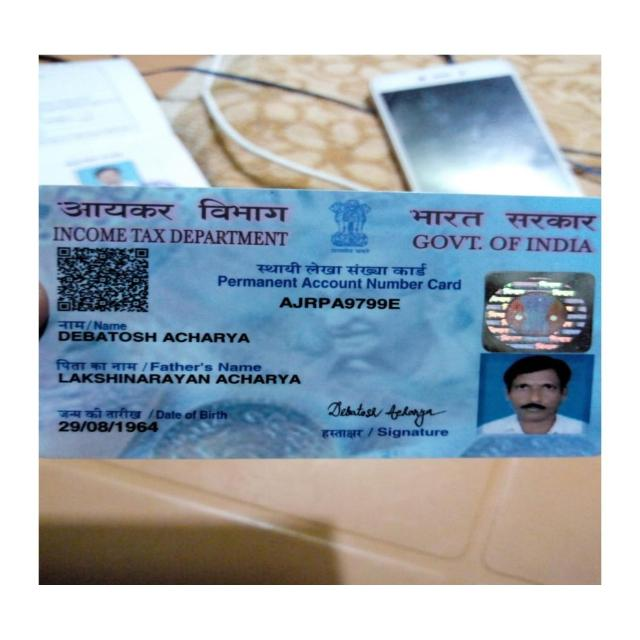pan_card: (41, 196, 600, 458)
